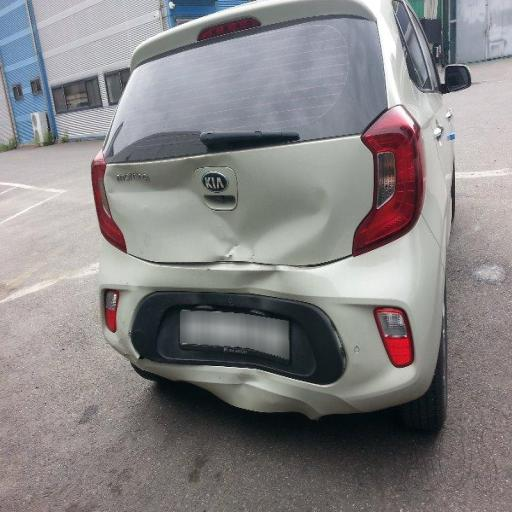dent: (113, 120, 373, 291), (130, 278, 365, 429)
